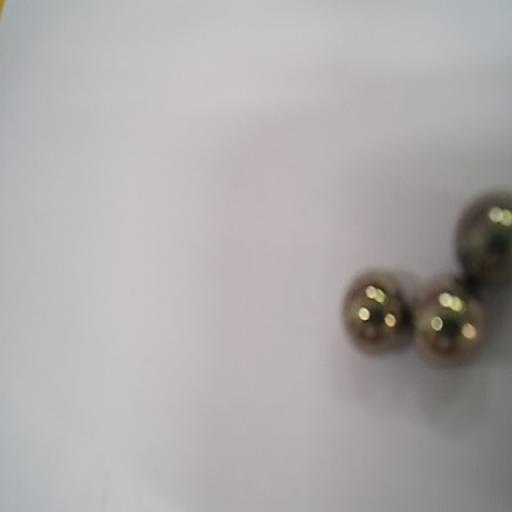steel-ball: (340, 262, 408, 361), (457, 180, 512, 294), (415, 276, 482, 367)
